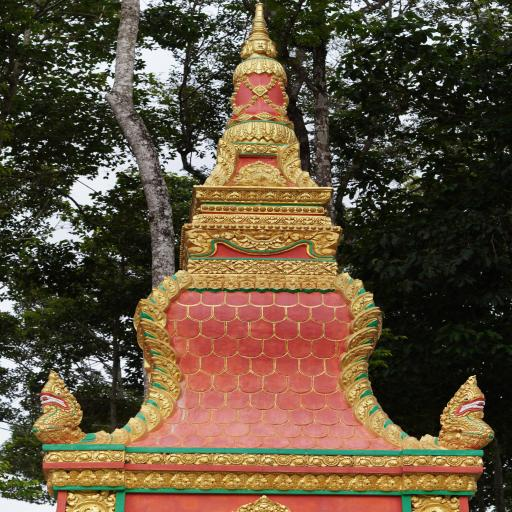hoa: (228, 260, 252, 274), (276, 261, 300, 274), (107, 450, 125, 462), (398, 454, 416, 466), (59, 451, 77, 462), (322, 455, 338, 467), (131, 453, 148, 464), (227, 454, 243, 465), (446, 455, 462, 466), (180, 454, 197, 464), (370, 456, 387, 466), (276, 455, 291, 466), (254, 144, 269, 154), (253, 85, 266, 95), (276, 116, 290, 124), (234, 105, 244, 115), (238, 113, 250, 121), (259, 112, 272, 119), (276, 105, 286, 114), (225, 118, 232, 126), (290, 122, 297, 128)
la: (128, 296, 166, 332), (132, 316, 172, 350), (362, 402, 394, 440), (145, 368, 185, 397), (138, 335, 180, 362), (142, 384, 177, 416), (146, 352, 186, 380), (338, 359, 374, 389), (133, 401, 168, 431), (341, 374, 375, 404), (346, 325, 382, 352), (339, 342, 376, 367), (351, 391, 381, 421), (155, 273, 185, 302), (347, 290, 378, 318), (350, 308, 386, 332), (212, 138, 242, 166), (121, 416, 151, 441), (141, 284, 171, 309), (275, 140, 303, 166), (381, 419, 405, 448), (211, 154, 237, 180), (342, 278, 366, 304), (198, 167, 230, 186), (282, 158, 306, 182), (169, 268, 192, 293), (190, 259, 231, 273), (297, 260, 331, 276), (247, 259, 279, 275), (190, 470, 215, 490), (108, 426, 133, 446), (330, 271, 355, 291), (401, 430, 421, 454), (167, 469, 189, 489), (418, 430, 438, 452), (296, 169, 319, 188), (101, 470, 126, 487), (298, 473, 320, 492), (218, 472, 241, 490), (120, 469, 140, 489), (204, 228, 234, 241), (186, 239, 210, 255), (143, 470, 162, 490), (349, 472, 368, 492), (415, 473, 435, 492), (244, 472, 265, 490), (376, 474, 394, 494), (443, 473, 463, 491), (51, 470, 70, 488), (76, 469, 96, 486), (324, 474, 342, 492), (314, 230, 337, 244), (273, 474, 291, 491), (432, 474, 450, 491), (259, 122, 276, 140), (240, 59, 258, 76), (259, 56, 276, 74), (90, 468, 106, 487), (312, 244, 337, 256), (132, 470, 148, 488), (157, 470, 173, 488), (182, 470, 198, 488), (461, 474, 477, 492), (241, 122, 257, 140), (288, 230, 316, 240), (275, 124, 289, 144), (65, 469, 81, 486), (365, 474, 380, 492), (392, 474, 407, 492), (260, 189, 279, 203), (209, 472, 225, 488), (261, 473, 277, 489), (235, 472, 249, 490), (339, 473, 353, 491), (279, 214, 299, 226), (75, 449, 92, 463), (244, 189, 262, 202), (42, 450, 61, 462), (314, 473, 327, 490), (278, 190, 296, 202), (295, 190, 313, 202), (316, 191, 334, 203), (242, 454, 261, 465), (288, 473, 301, 489), (432, 455, 449, 467), (146, 453, 163, 465), (225, 190, 242, 202), (227, 126, 241, 140), (354, 456, 370, 468), (206, 191, 225, 201), (264, 214, 281, 225), (460, 456, 478, 466), (298, 215, 316, 225), (316, 216, 334, 226), (193, 188, 208, 200), (196, 454, 212, 465), (232, 62, 243, 78), (185, 228, 202, 238), (229, 213, 246, 223), (276, 59, 286, 76), (408, 473, 419, 488), (338, 456, 353, 467), (308, 456, 323, 467), (260, 455, 275, 466), (166, 453, 181, 464), (385, 457, 401, 467), (292, 455, 308, 465), (211, 214, 227, 224), (246, 214, 262, 224), (214, 453, 228, 464), (93, 451, 107, 462), (415, 456, 429, 466), (240, 143, 254, 153), (289, 128, 297, 142), (268, 144, 279, 154), (199, 214, 209, 223)
ran: (424, 374, 504, 452), (24, 367, 95, 446)
than: (228, 1, 288, 62), (248, 38, 269, 54), (235, 42, 250, 59), (267, 40, 280, 58)
